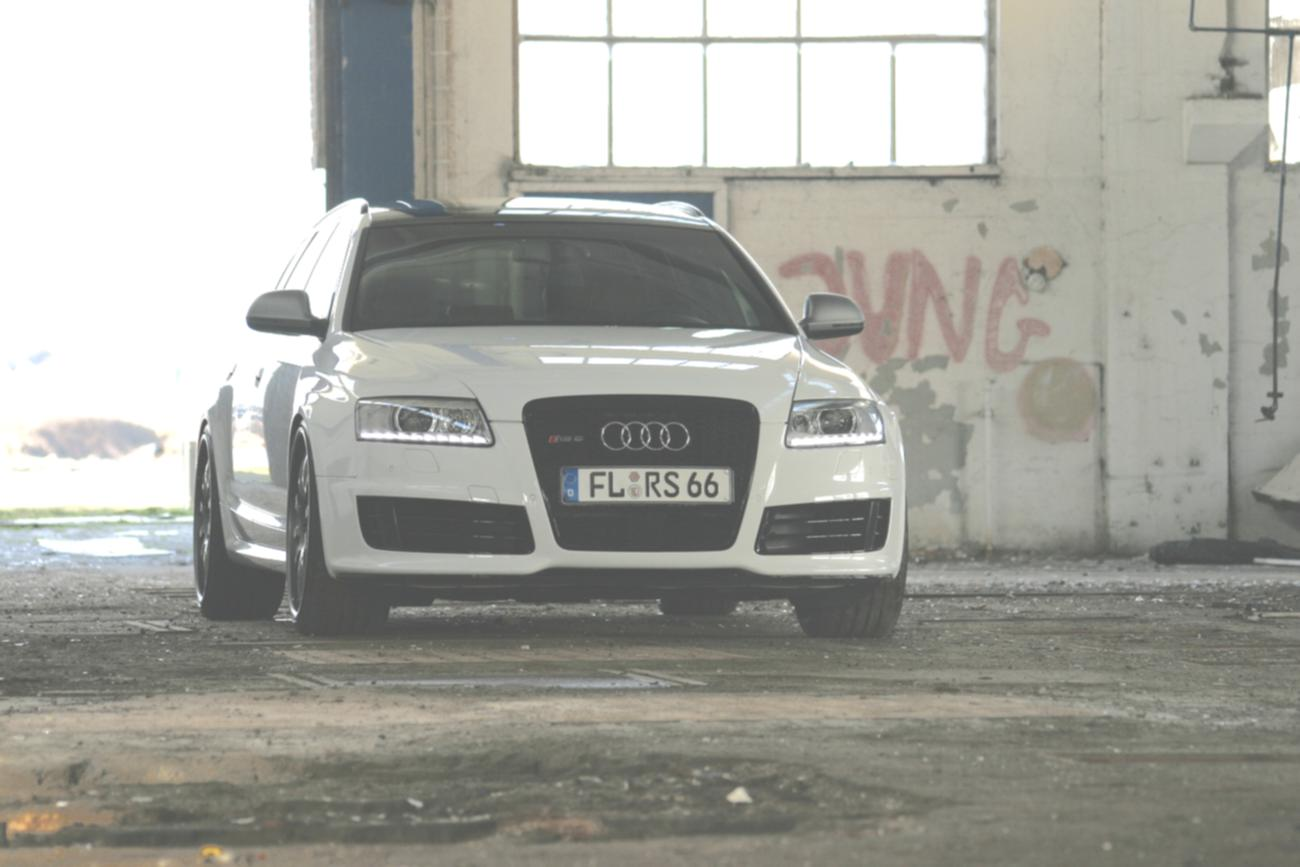Audi: (584, 402, 715, 469)
